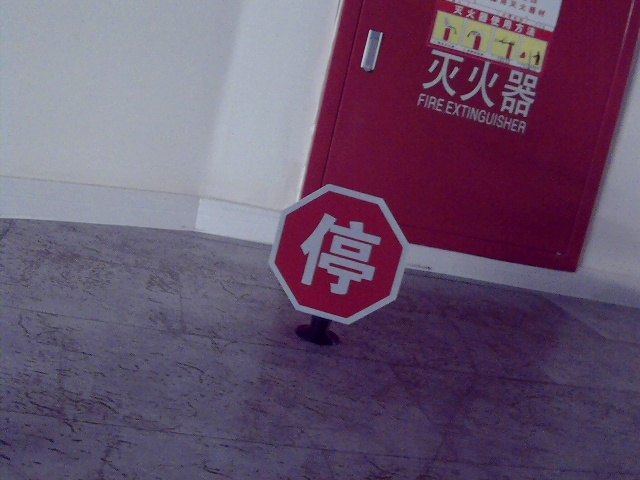stop: (297, 212, 381, 294)
